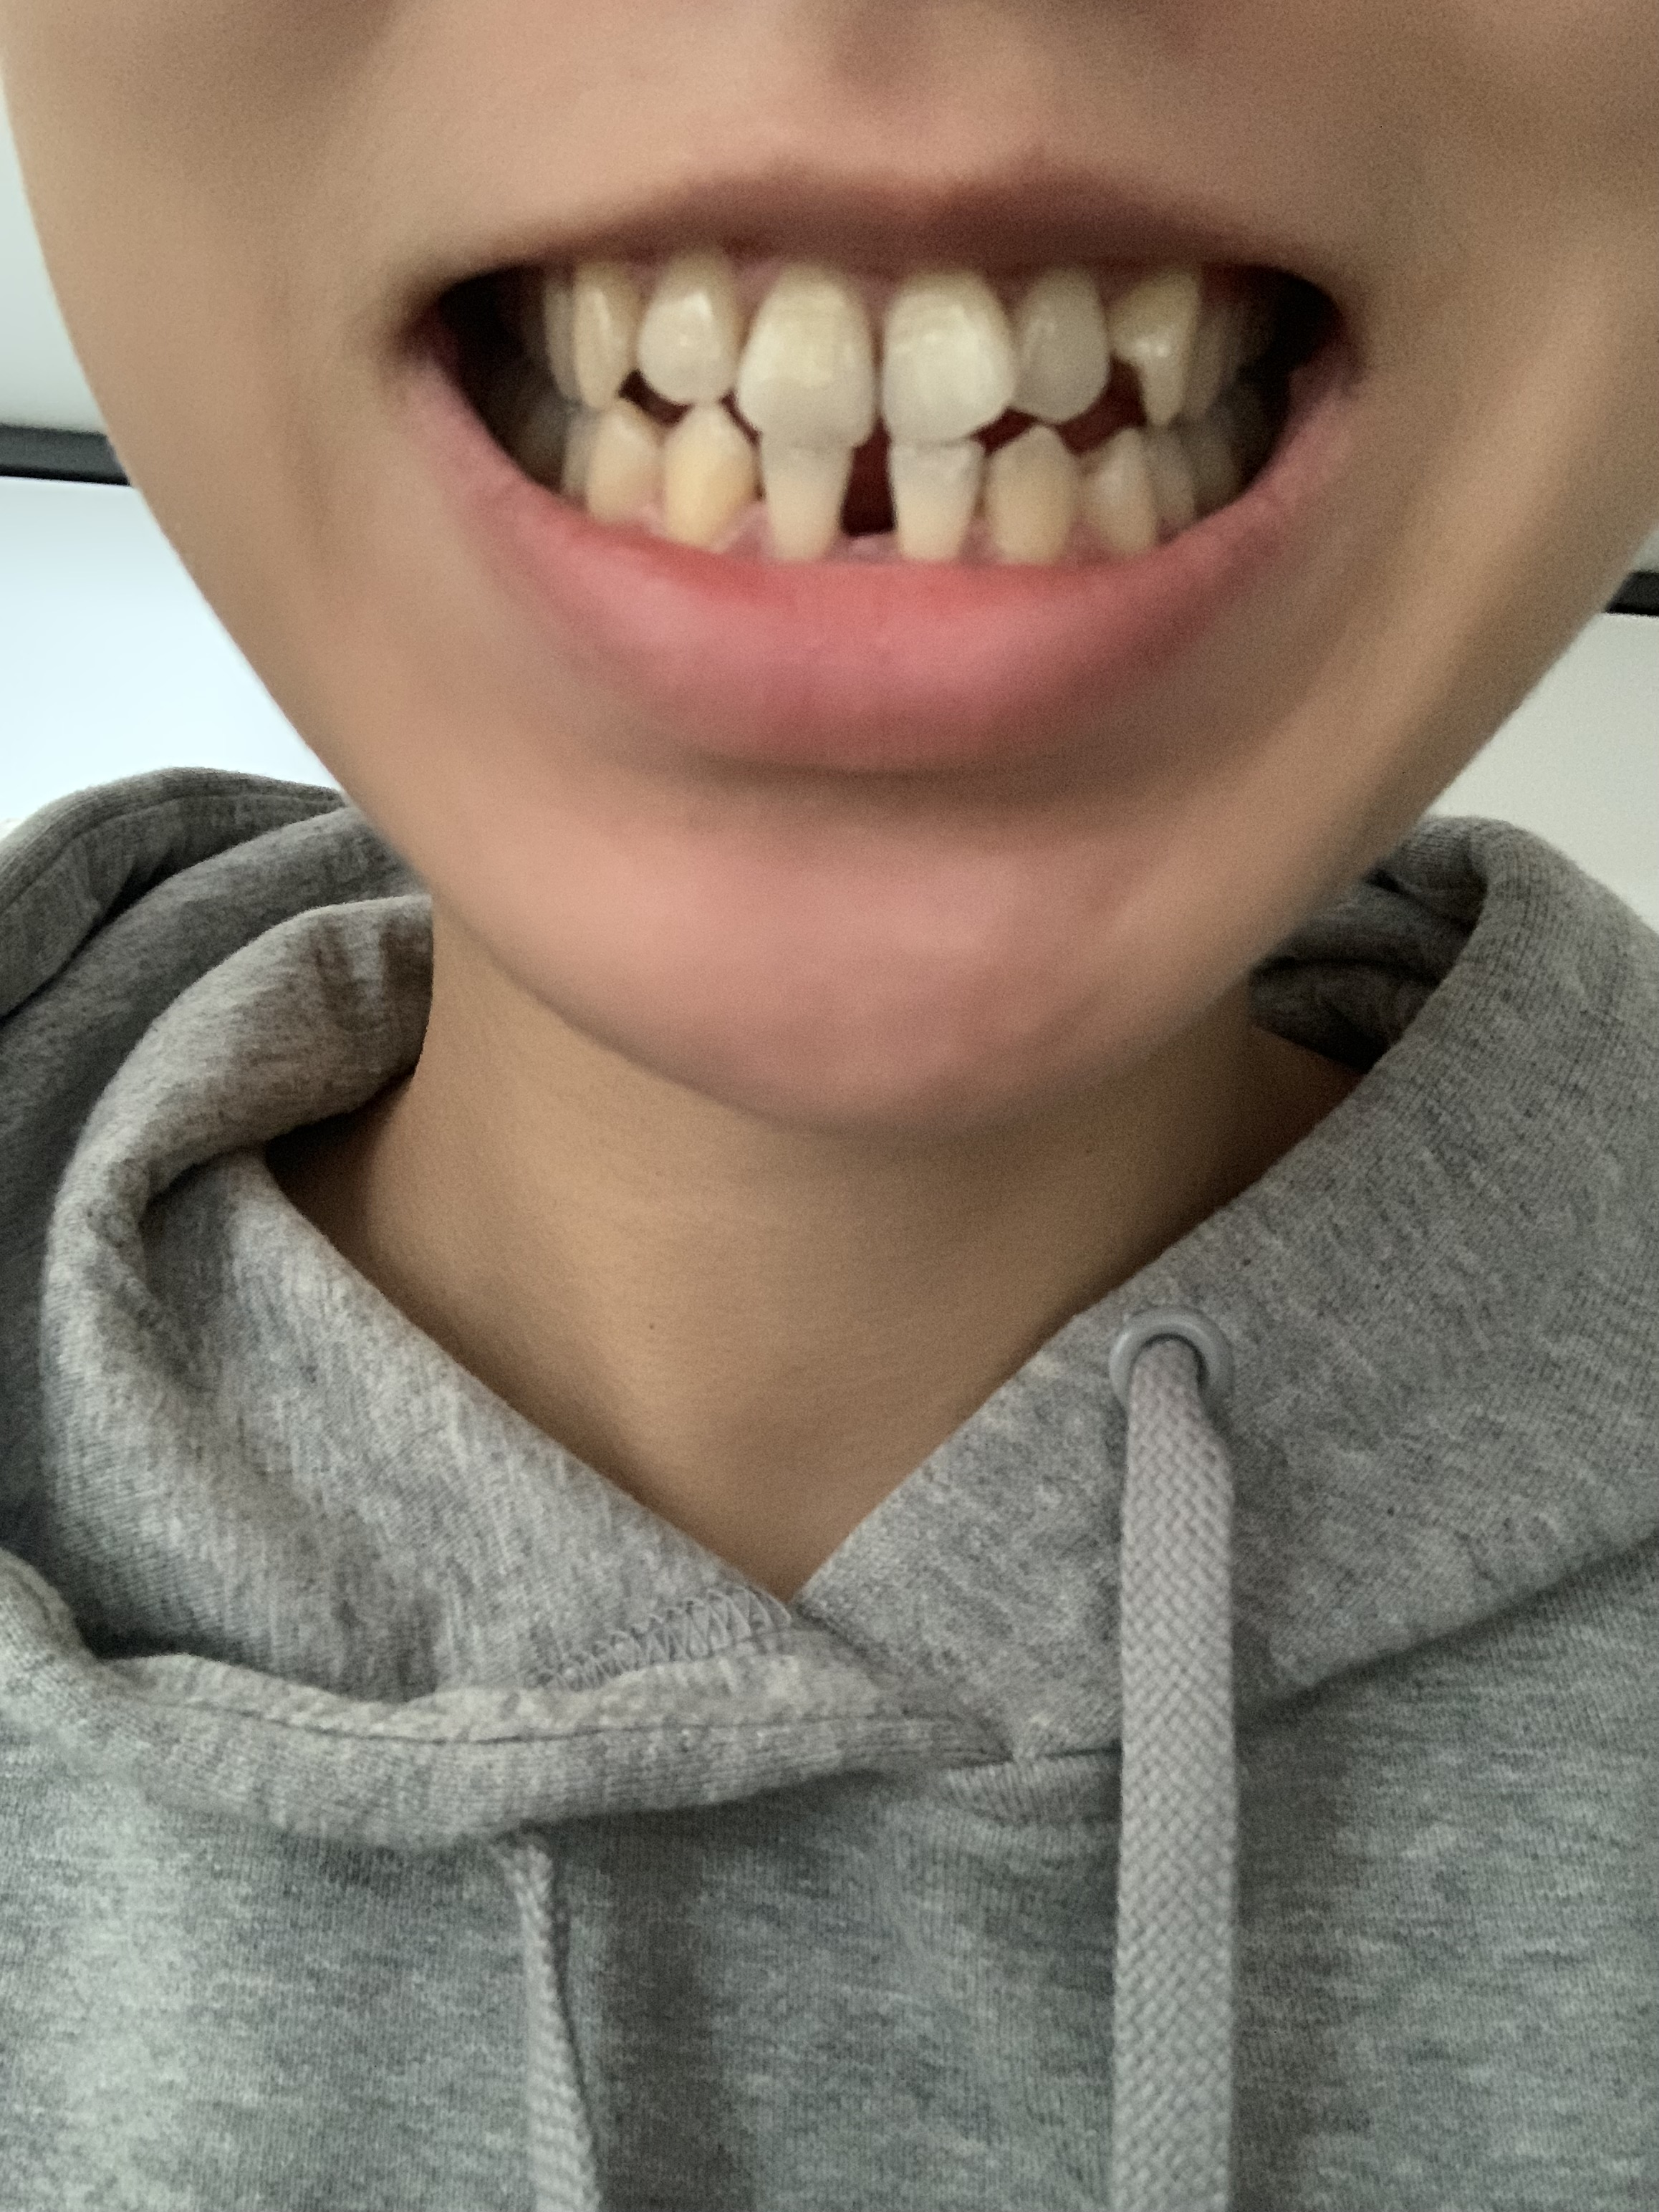teeth: (737, 258, 863, 441), (890, 280, 1012, 444), (1016, 265, 1115, 423), (638, 239, 727, 402), (655, 394, 748, 538), (1117, 258, 1188, 423), (995, 430, 1082, 564), (760, 441, 859, 550), (892, 442, 976, 559), (582, 404, 657, 524), (1093, 432, 1152, 557), (575, 246, 620, 406), (1182, 277, 1220, 415), (1197, 397, 1241, 516), (542, 280, 579, 404), (1229, 270, 1267, 385), (1164, 434, 1195, 524)
